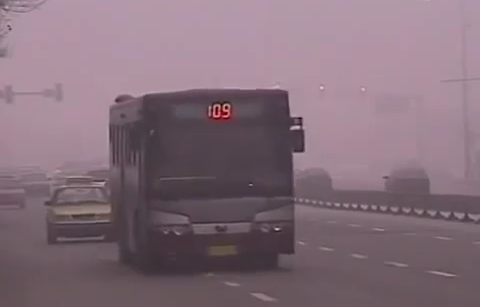bus: (106, 86, 305, 272)
car: (43, 176, 119, 244), (382, 165, 429, 197), (297, 167, 335, 195), (19, 173, 51, 199), (1, 174, 26, 207)
